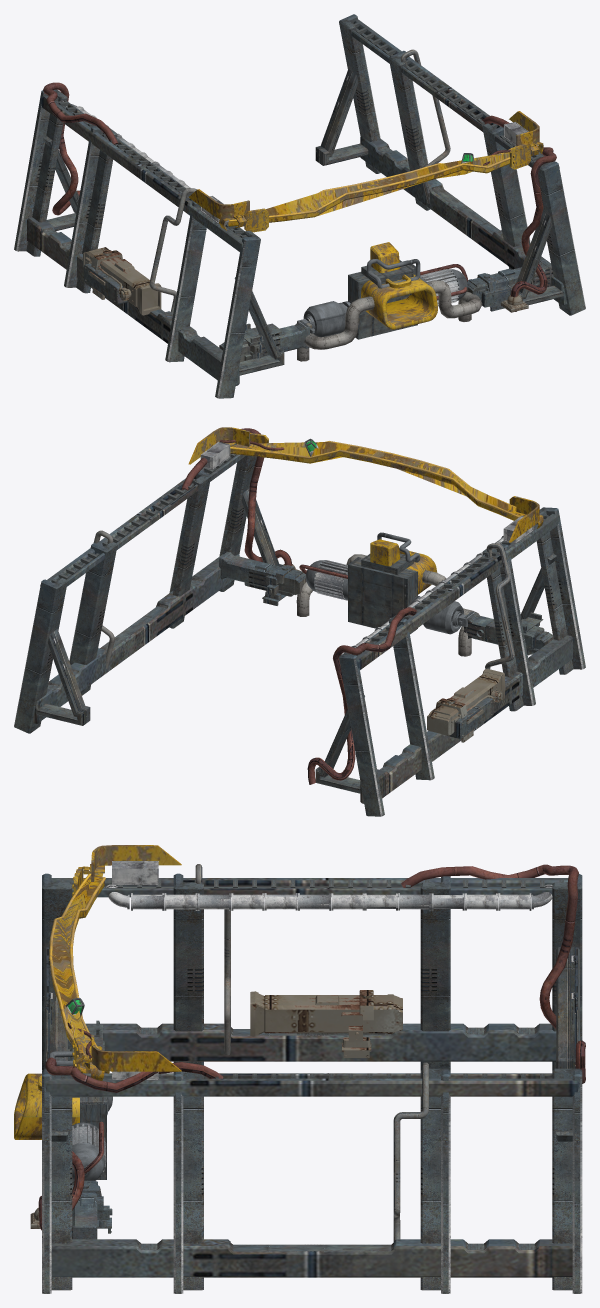
Rendered from static.fbx.
The picture shows the model from 3 angles, top to bottom: view 1: azimuth 30°, elevation 25°; view 2: azimuth 150°, elevation 25°; view 3: azimuth 270°, elevation 25°; orthographic projection. The views are drawn at different scales.
Parts seen in each view (by area): view 1: Cube_1_7, Cube_1_6, Boole_2, Sweep_20, Cube_1_8, Extrude, device, Extrude_2, Sweep_9, Sweep_19, device_1, Sweep_15 (+14 smaller); view 2: Cube_1_7, Cube_1_6, Boole_2, Sweep_20, Extrude, Cube_1_8, Cube_2_3, device, device_1, Sweep_19, Cube_2_4, Cube_1 (+11 smaller); view 3: Boole_2, Cube_1_6, Cube_1_7, Cube_1_8, device, Sweep_20, Cube_2_4, Sweep_19, Cube_1, Extrude, Sweep_15, Extrude_2 (+9 smaller).
Boxes of the visible parts, x1,y1,x2,y2 form: Cube_1_7: (14,14,585,398); Cube_1_6: (64,50,530,362); Boole_2: (27,136,567,385); Sweep_20: (43,63,563,375); Cube_1_8: (40,19,559,251); Extrude: (228,152,509,226); device: (83,247,161,315); Extrude_2: (361,274,437,329); Sweep_9: (297,280,482,361); Sweep_19: (43,82,118,215); device_1: (466,260,553,311); Sweep_15: (481,115,556,311); Cube_1_7: (14,455,585,816); Cube_1_6: (69,470,535,780); Boole_2: (32,554,572,803); Sweep_20: (36,481,556,793); Extrude: (230,442,526,520); Cube_1_8: (40,443,559,669); Cube_2_3: (348,557,417,634); device: (427,668,504,742); device_1: (219,551,306,605); Sweep_19: (307,607,416,784); Cube_2_4: (66,454,504,642); Cube_1: (188,427,539,542); Boole_2: (44,1023,580,1277); Cube_1_6: (173,873,450,1293); Cube_1_7: (42,873,582,1293); Cube_1_8: (45,878,579,1096); device: (250,990,402,1057); Sweep_20: (44,947,579,1141); Cube_2_4: (71,888,552,1078); Sweep_19: (401,864,585,1083); Cube_1: (91,845,181,1071); Extrude: (52,873,109,1073); Sweep_15: (38,1057,223,1230); Extrude_2: (14,1073,79,1139).
Bounding box in the file's own units: 602 × 270 × 603.
10 materials, 10 textured.
